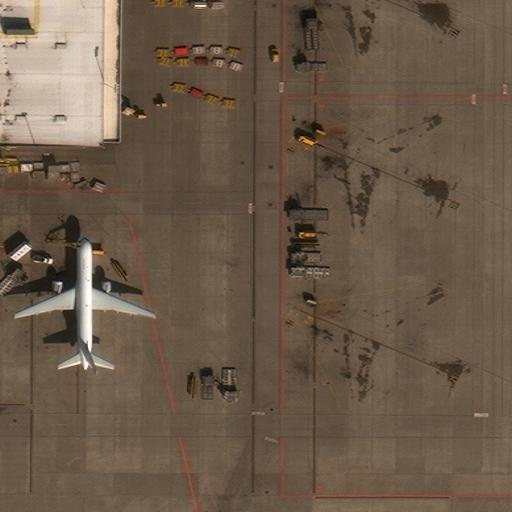Large Civil Transport: (14, 234, 152, 370)
